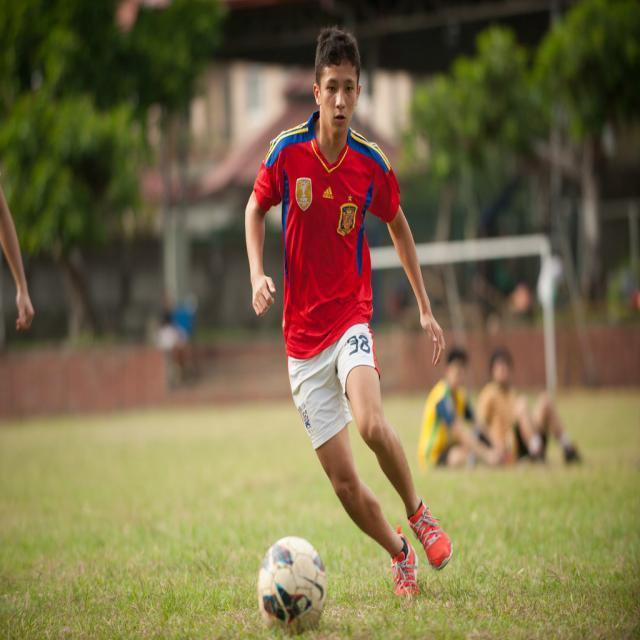football: (209, 522, 358, 631)
